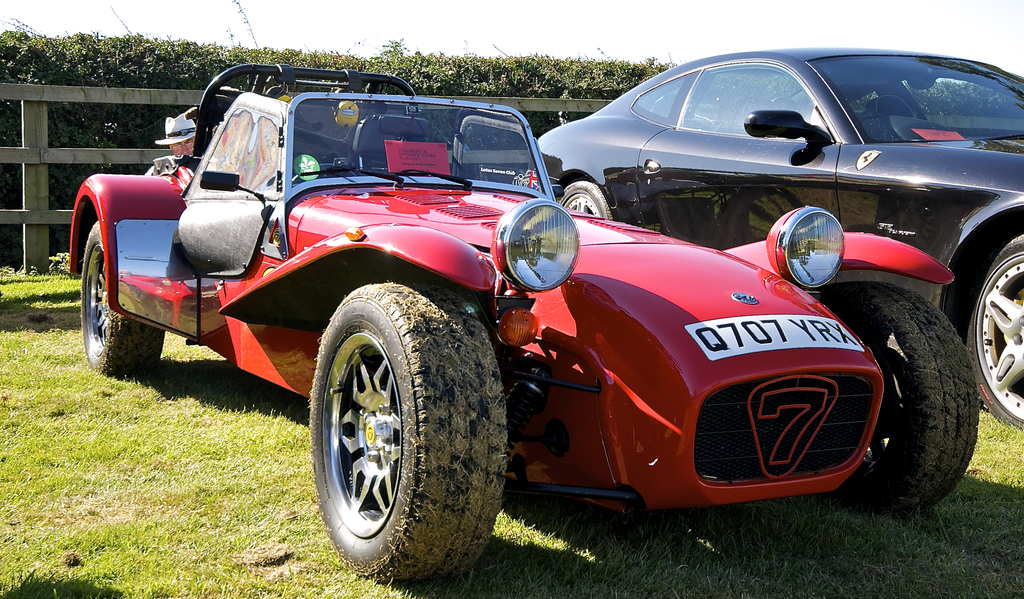mobil: (179, 117, 963, 564)
